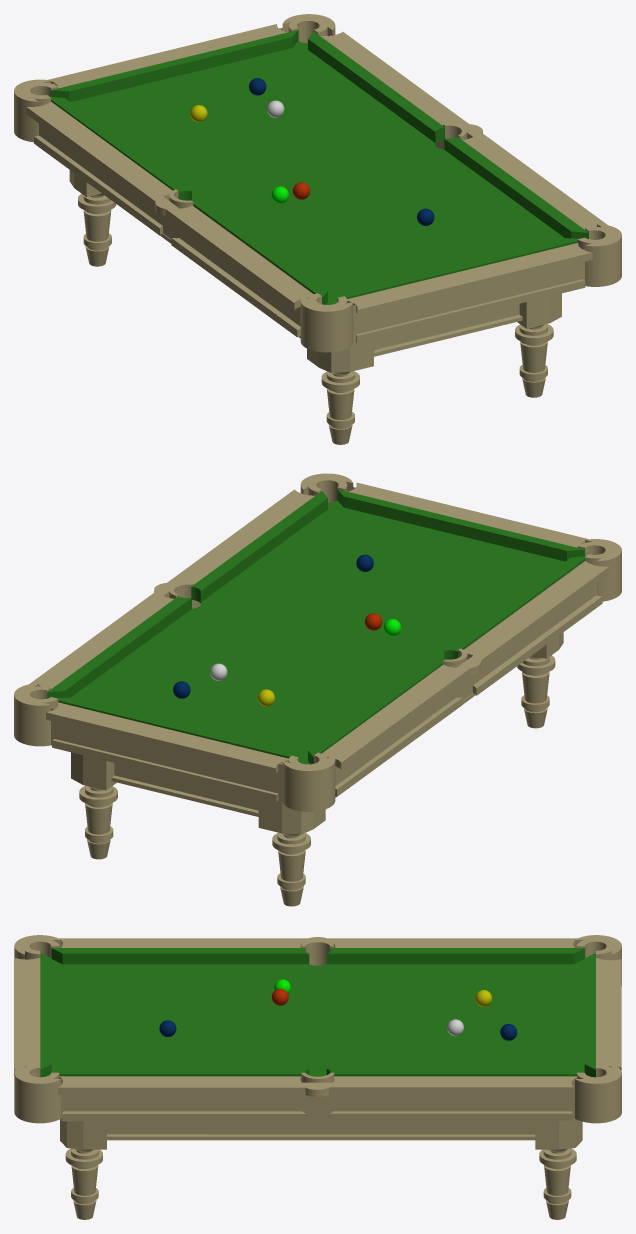
The model's file is OM_GFloor_Billiard_Table.fbx.
3 renders of one model, top to bottom at view 1: azimuth 30°, elevation 25°; view 2: azimuth 150°, elevation 25°; view 3: azimuth 270°, elevation 25°, orthographic. The views are drawn at different scales.
Visible parts, largest first — view 1: OM_GFloor_Billiard_Table_Green, OM_GFloor_Billiard_Table_Wood, OM_GFloor_Billiard_Table_Ball; view 2: OM_GFloor_Billiard_Table_Green, OM_GFloor_Billiard_Table_Wood, OM_GFloor_Billiard_Table_Ball; view 3: OM_GFloor_Billiard_Table_Green, OM_GFloor_Billiard_Table_Wood, OM_GFloor_Billiard_Table_Ball.
Part boxes in pixels (left/top/right/bottom): OM_GFloor_Billiard_Table_Green: left=50, top=30, right=588, bottom=304; OM_GFloor_Billiard_Table_Wood: left=14, top=14, right=621, bottom=444; OM_GFloor_Billiard_Table_Ball: left=190, top=78, right=434, bottom=225; OM_GFloor_Billiard_Table_Green: left=47, top=489, right=585, bottom=764; OM_GFloor_Billiard_Table_Wood: left=14, top=473, right=621, bottom=906; OM_GFloor_Billiard_Table_Ball: left=173, top=554, right=401, bottom=706; OM_GFloor_Billiard_Table_Green: left=40, top=948, right=595, bottom=1077; OM_GFloor_Billiard_Table_Wood: left=14, top=935, right=621, bottom=1219; OM_GFloor_Billiard_Table_Ball: left=159, top=979, right=517, bottom=1040.
Bounding box in the file's own units: 4.33 × 2.17 × 7.28.
